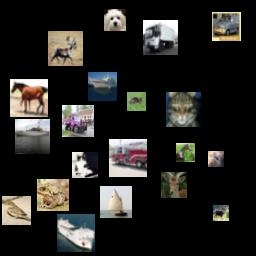automobile: (212, 12, 241, 41)
bird: (2, 196, 31, 225), (208, 151, 224, 167)
cat: (166, 92, 201, 127), (72, 152, 98, 178), (127, 92, 146, 111)
deer: (48, 31, 83, 66), (161, 172, 187, 198), (213, 205, 229, 221)
dog: (104, 9, 126, 31)
frog: (37, 179, 69, 211)
ship: (57, 214, 95, 252), (15, 119, 50, 154), (100, 186, 132, 218), (88, 72, 117, 101)
truck: (109, 139, 147, 177), (143, 20, 178, 55), (62, 105, 94, 137)
